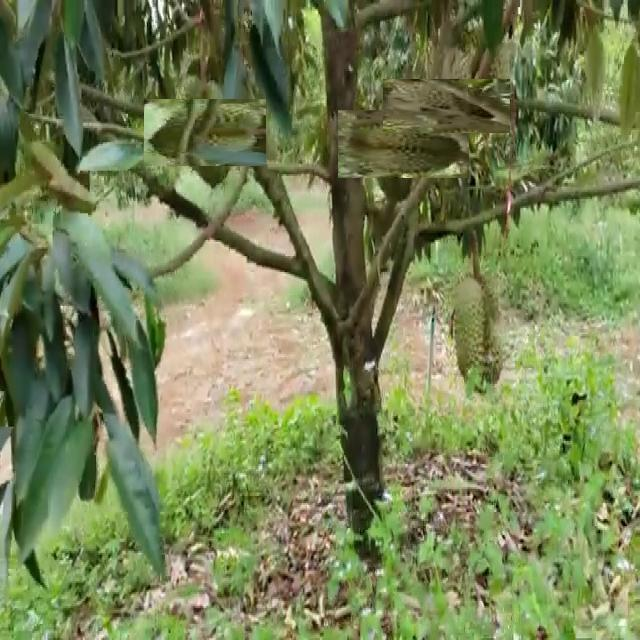durian: (354, 94, 454, 194), (158, 85, 252, 179), (401, 61, 492, 151), (450, 265, 503, 395), (467, 28, 516, 128)
